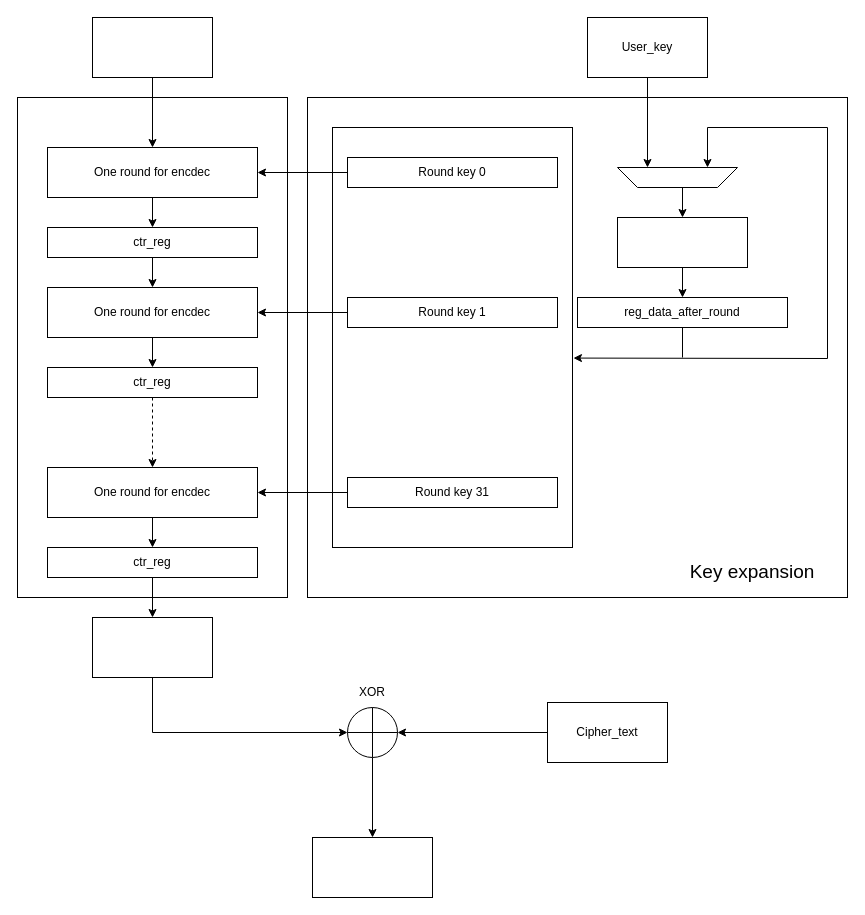
This 865x915 diagram has some shape labels left out. The shapes that lost their labels are listed below. From the top down, each one's box as (x1, y1, x2, y2) in pixels, then its label:
(92, 16, 212, 78): VI
(616, 216, 748, 268): One round for key exp
(92, 616, 212, 678): Key Stream
(312, 836, 432, 898): Plain_text
